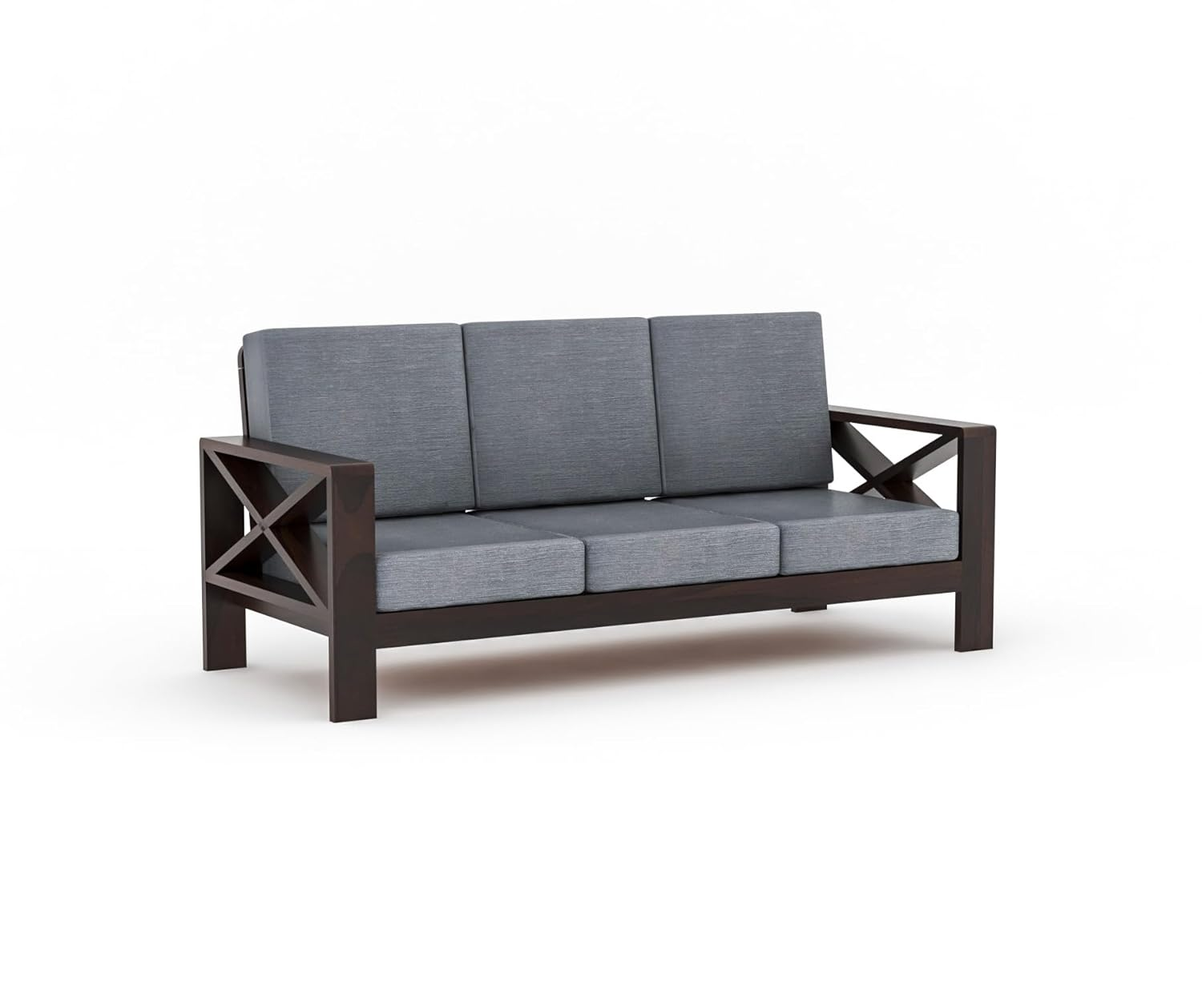3seatersofa: (200, 312, 994, 721)
backrest: (244, 313, 831, 516), (268, 463, 311, 496), (313, 511, 325, 522)
base: (376, 561, 961, 648)
leftarmrest: (830, 407, 990, 437)
leg: (201, 437, 377, 721), (830, 408, 995, 651), (793, 604, 827, 613)
rightarmrest: (202, 437, 372, 473), (499, 633, 503, 634)
seat: (376, 489, 959, 613), (307, 525, 326, 592), (262, 553, 298, 585)
